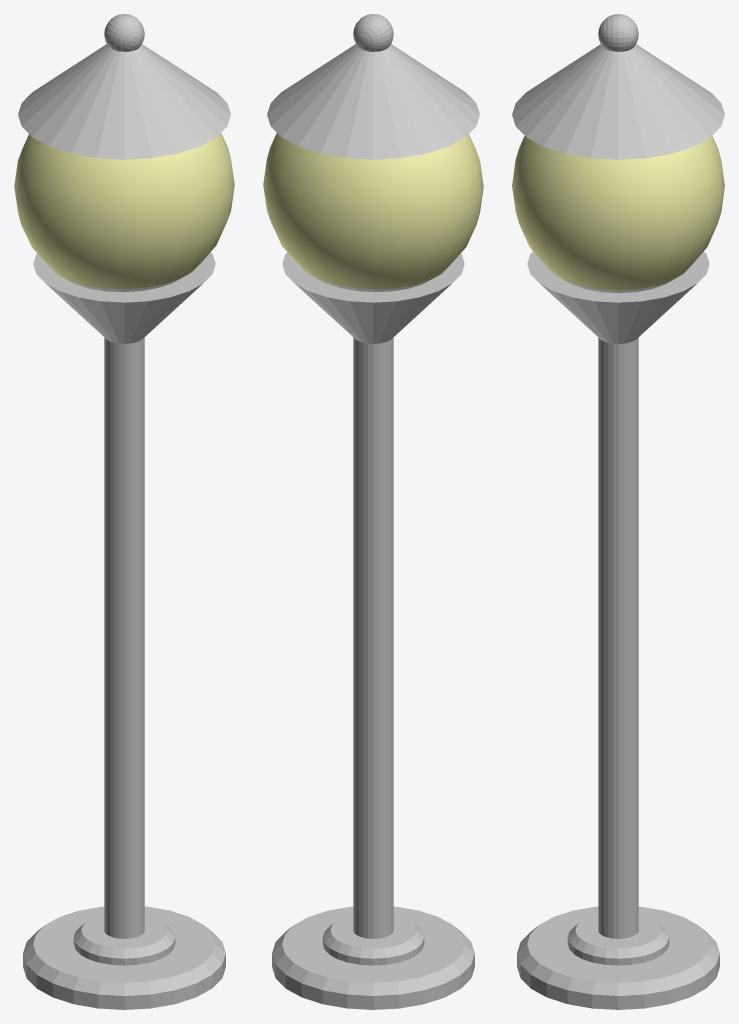
File: Lamp Post.fbx
The picture shows the model from 3 angles, left to right: view 1: azimuth 30°, elevation 25°; view 2: azimuth 150°, elevation 25°; view 3: azimuth 270°, elevation 25°; orthographic projection.
Parts seen in each view (by area): view 1: Lamp_post; view 2: Lamp_post; view 3: Lamp_post.
Boxes of the visible parts, x1,y1,x2,y2 form: Lamp_post: (14, 14, 234, 1009); Lamp_post: (263, 14, 483, 1009); Lamp_post: (512, 14, 724, 1009).
Size of the model in its own units: 220 by 1035 by 210.
